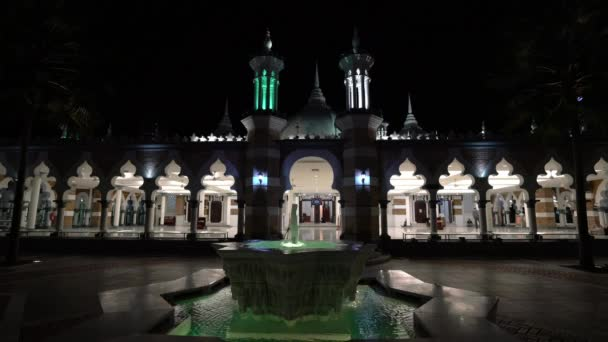Mosque: (234, 31, 379, 240)
